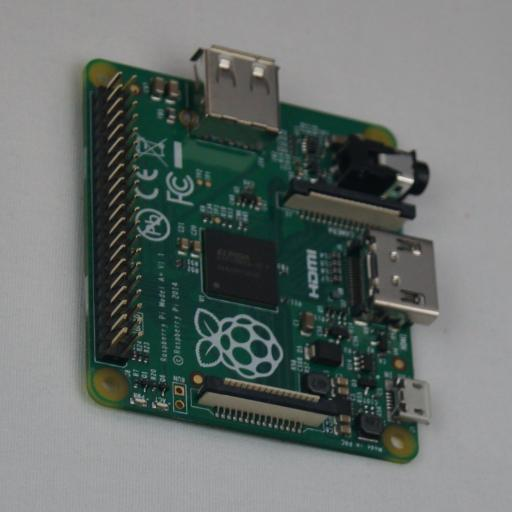Raspberry Pi A-: (76, 46, 438, 464)
